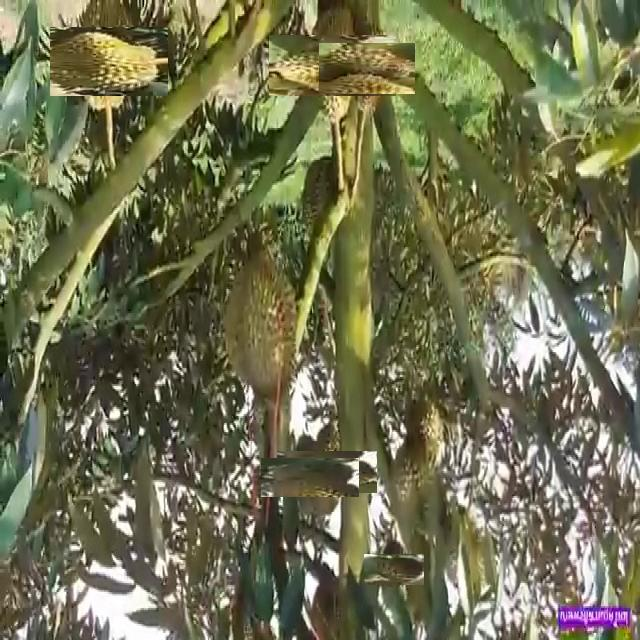durian: (216, 246, 300, 392), (286, 18, 380, 113), (62, 14, 155, 109), (329, 31, 404, 106), (292, 436, 363, 508), (276, 443, 344, 513), (402, 393, 443, 482), (371, 547, 417, 593)
